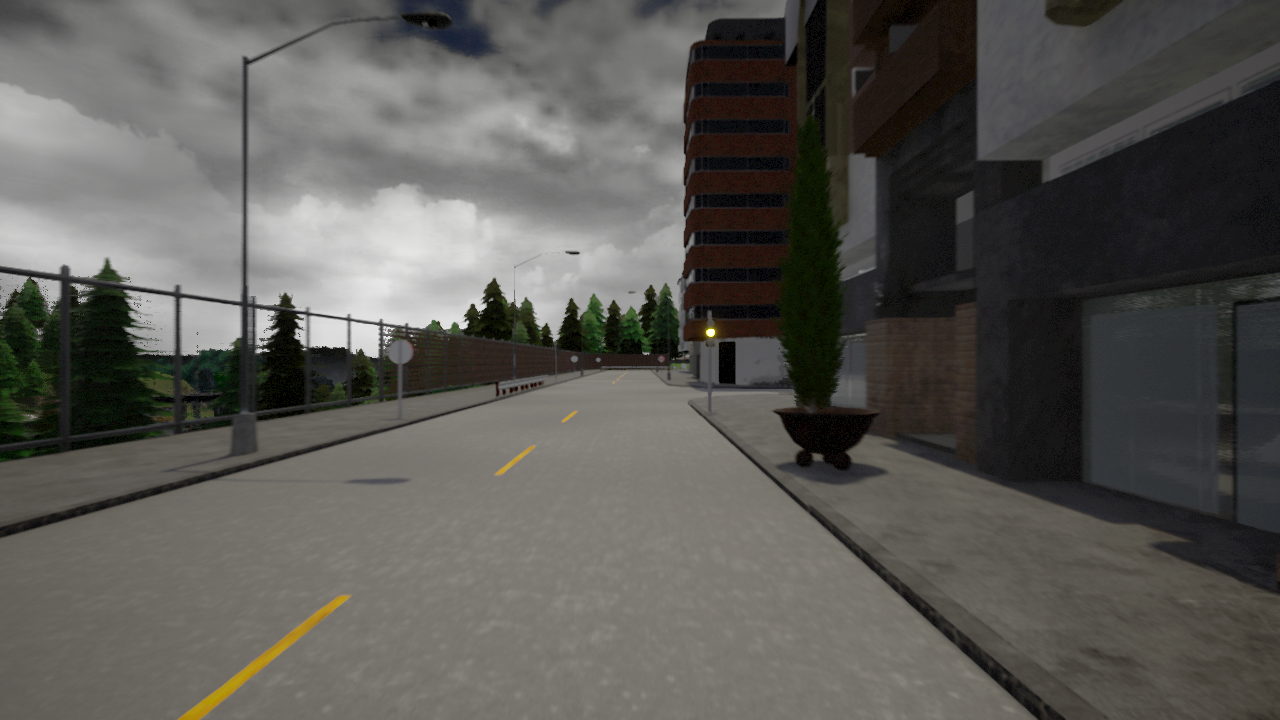yellow: (704, 318, 717, 348)
